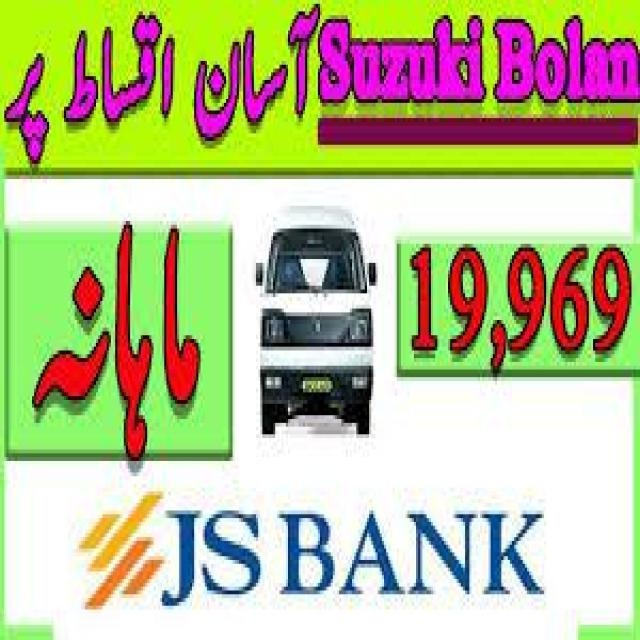Van: (250, 194, 380, 442)
